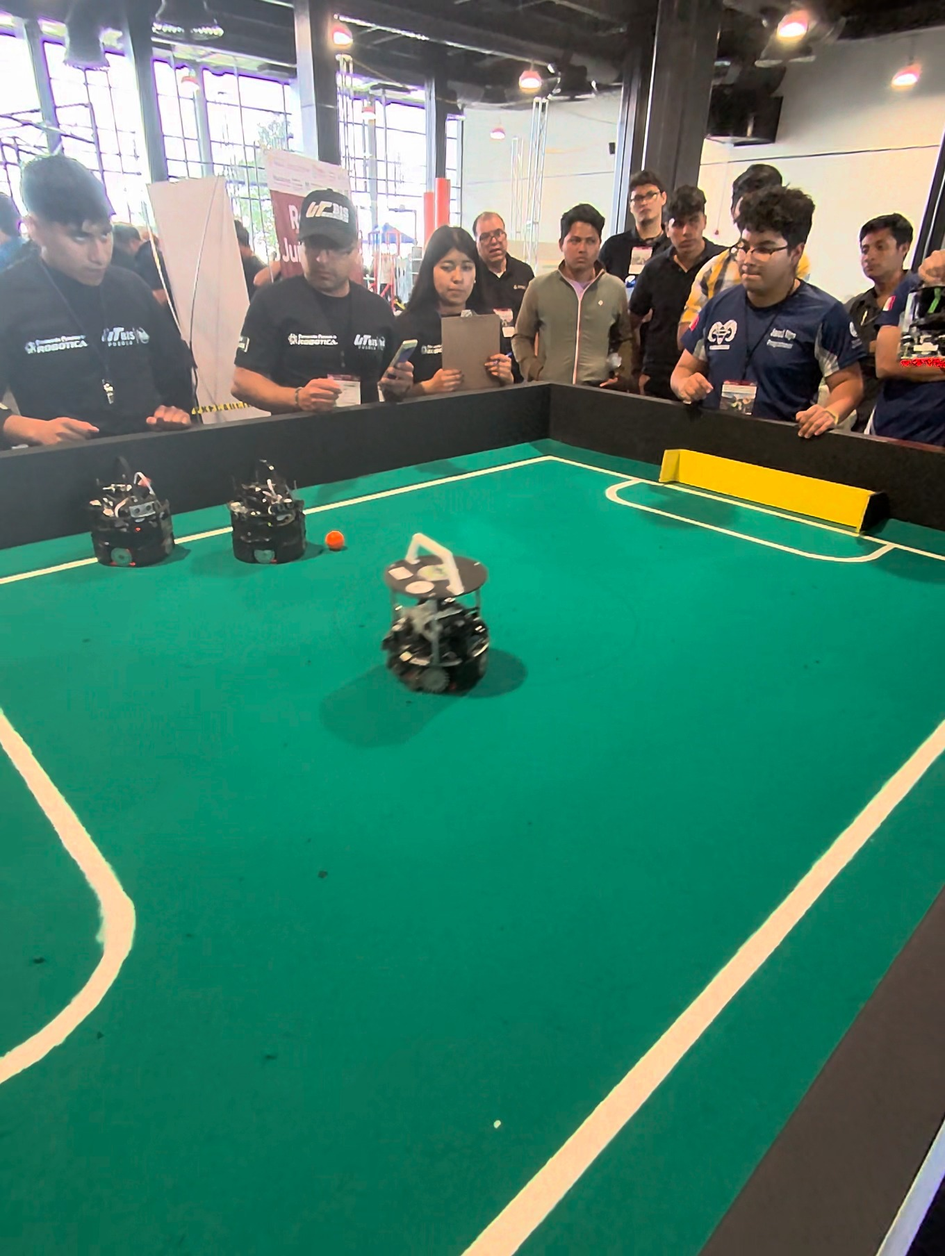Robot: (377, 527, 496, 708), (88, 452, 180, 571), (227, 460, 307, 575)
pelota: (324, 530, 343, 552)
